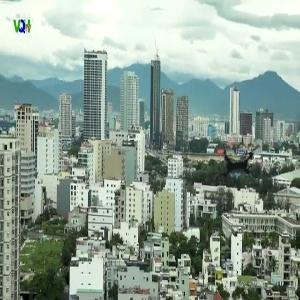drone: (199, 124, 279, 204)
